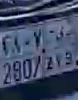0: (22, 36, 33, 81)
2: (2, 34, 13, 86)
7: (33, 31, 41, 78)
9: (13, 35, 22, 84)
V: (55, 27, 63, 70)
Z: (45, 27, 54, 73)
